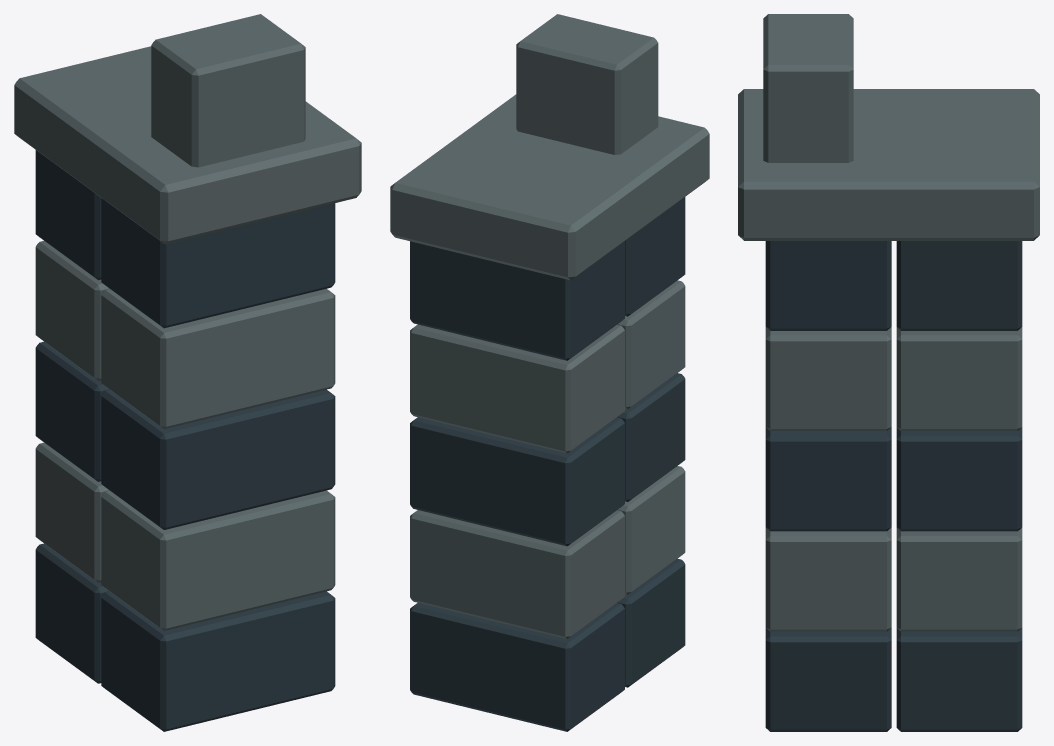
File: WallArm.fbx
3 views of the same model, side by side, from view 1: azimuth 30°, elevation 25°; view 2: azimuth 150°, elevation 25°; view 3: azimuth 270°, elevation 25° (orthographic). The views are drawn at different scales.
Visible parts, largest first — view 1: WallArm_Mesh; view 2: WallArm_Mesh; view 3: WallArm_Mesh.
Boxes of the visible parts, <box> form: WallArm_Mesh: <box>14,14,361,731</box>; WallArm_Mesh: <box>390,14,709,731</box>; WallArm_Mesh: <box>738,14,1039,731</box>.
Bounding box in the file's own units: 0.46 × 1.43 × 0.6.
